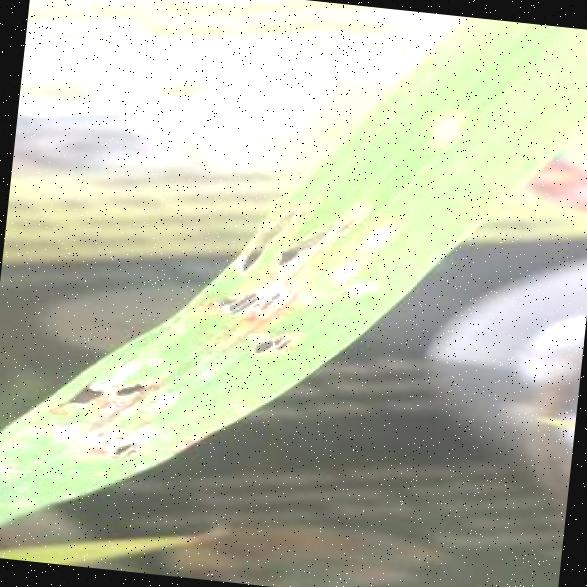Leaf_smut: (241, 191, 368, 285), (60, 323, 166, 429), (57, 401, 163, 507), (204, 268, 302, 330), (225, 316, 306, 376)
